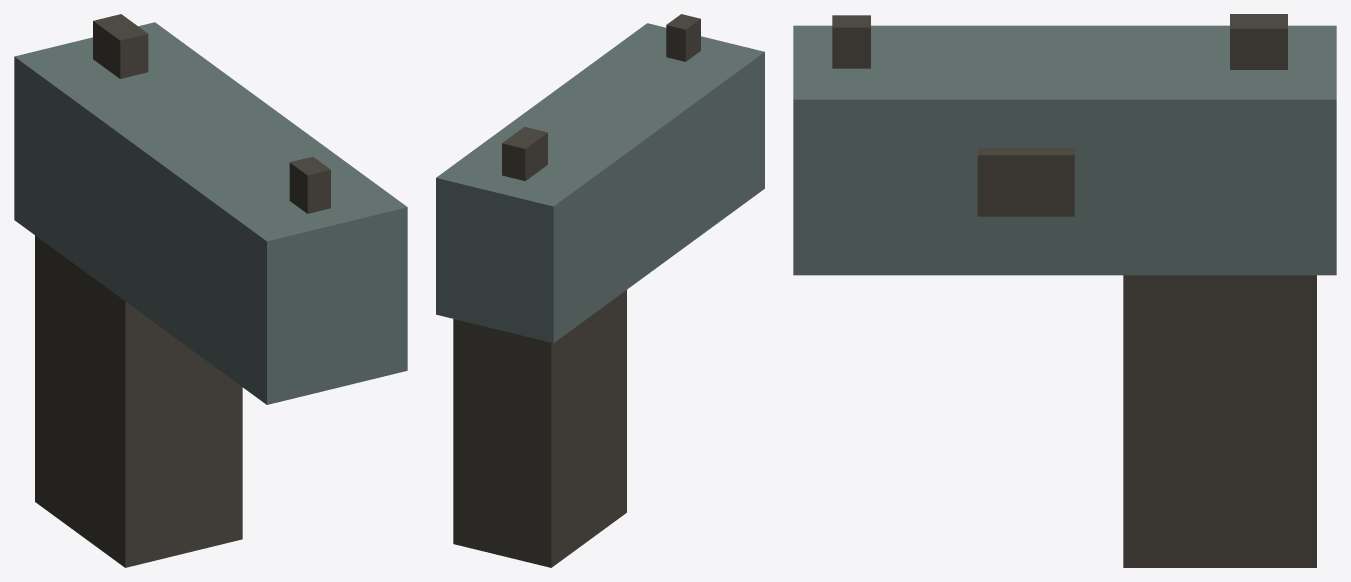
File: weapon_pistol_lod0.obj
3 views of the same model, side by side, from view 1: azimuth 30°, elevation 25°; view 2: azimuth 150°, elevation 25°; view 3: azimuth 270°, elevation 25° (orthographic). The views are drawn at different scales.
Parts seen in each view (by area): view 1: weapon_pistol_lod0; view 2: weapon_pistol_lod0; view 3: weapon_pistol_lod0.
Part boxes in pixels (left/top/right/bottom): weapon_pistol_lod0: left=14, top=14, right=407, bottom=567; weapon_pistol_lod0: left=436, top=14, right=764, bottom=567; weapon_pistol_lod0: left=793, top=14, right=1336, bottom=567.
Bounding box in the file's own units: 0.099 × 0.2935 × 0.28.
1 material, 1 textured.
